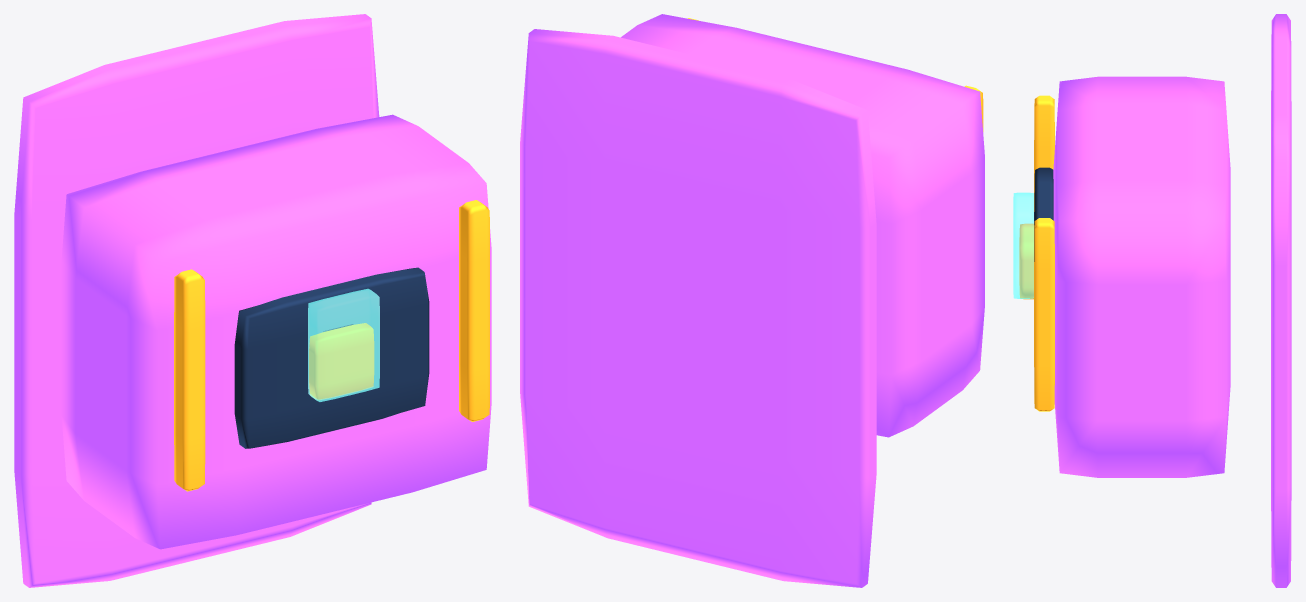
The model's file is mystic-arcane.glb.
3 renders of one model, left to right at view 1: azimuth 30°, elevation 25°; view 2: azimuth 150°, elevation 25°; view 3: azimuth 270°, elevation 25°, orthographic. The views are drawn at different scales.
Visible parts, largest first — view 1: Torso, Cape, Panel, Gem, StripeL, StripeR, Core; view 2: Cape, Torso; view 3: Torso, Cape, StripeR, Gem, StripeL, Core, Panel.
Part boxes in pixels (x1=…): Torso: x1=61, y1=114, x2=491, y2=549; Cape: x1=14, y1=14, x2=379, y2=587; Panel: x1=234, y1=267, x2=429, y2=448; Gem: x1=308, y1=288, x2=379, y2=401; StripeL: x1=174, y1=269, x2=205, y2=491; StripeR: x1=459, y1=200, x2=489, y2=421; Core: x1=309, y1=323, x2=374, y2=399; Cape: x1=520, y1=29, x2=876, y2=587; Torso: x1=621, y1=14, x2=984, y2=437; Torso: x1=1053, y1=76, x2=1230, y2=477; Cape: x1=1271, y1=14, x2=1291, y2=587; StripeR: x1=1034, y1=218, x2=1054, y2=411; Gem: x1=1013, y1=192, x2=1033, y2=298; StripeL: x1=1034, y1=95, x2=1054, y2=211; Core: x1=1019, y1=223, x2=1033, y2=299; Panel: x1=1034, y1=167, x2=1053, y2=261.
Size of the model in its own units: 2.1 by 2.85 by 1.6.
